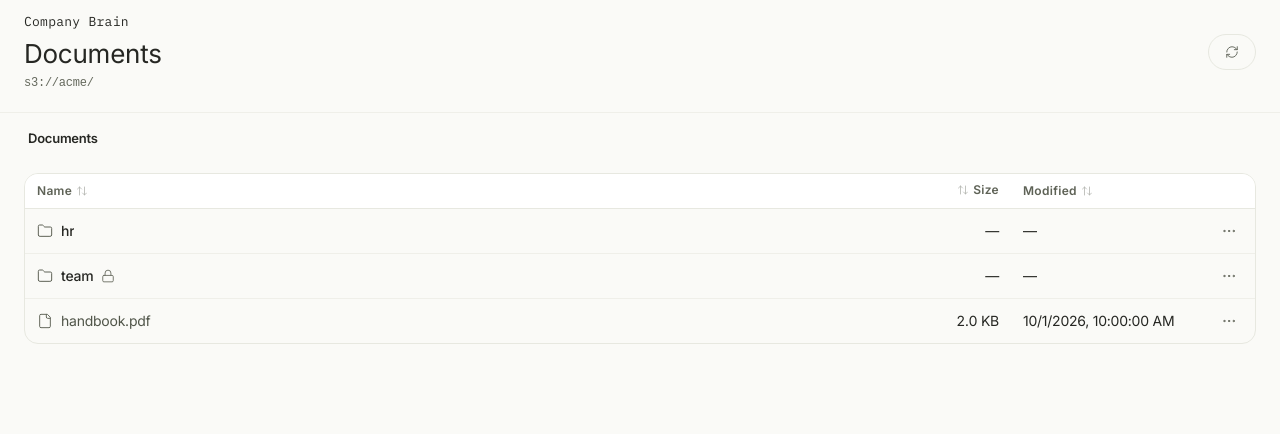
Test: Documents view › hides every write control without add_knowledge
This screenshot has width=1280, height=434.
Click the button named "Actions for handbook.pdf": (1229, 320) [1215,306,1243,334]
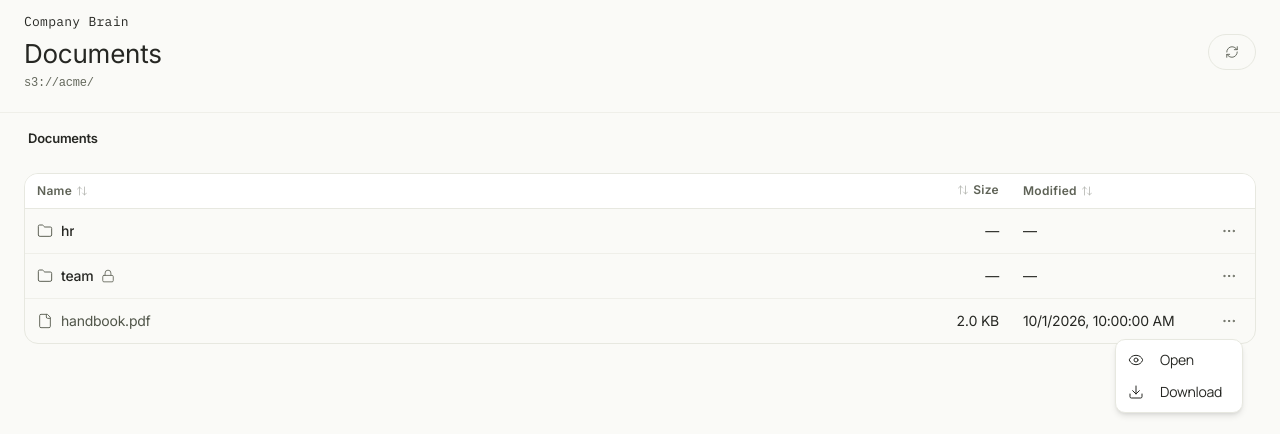
Now the menu item "Download" is shown, box [1128,382,1222,401]
